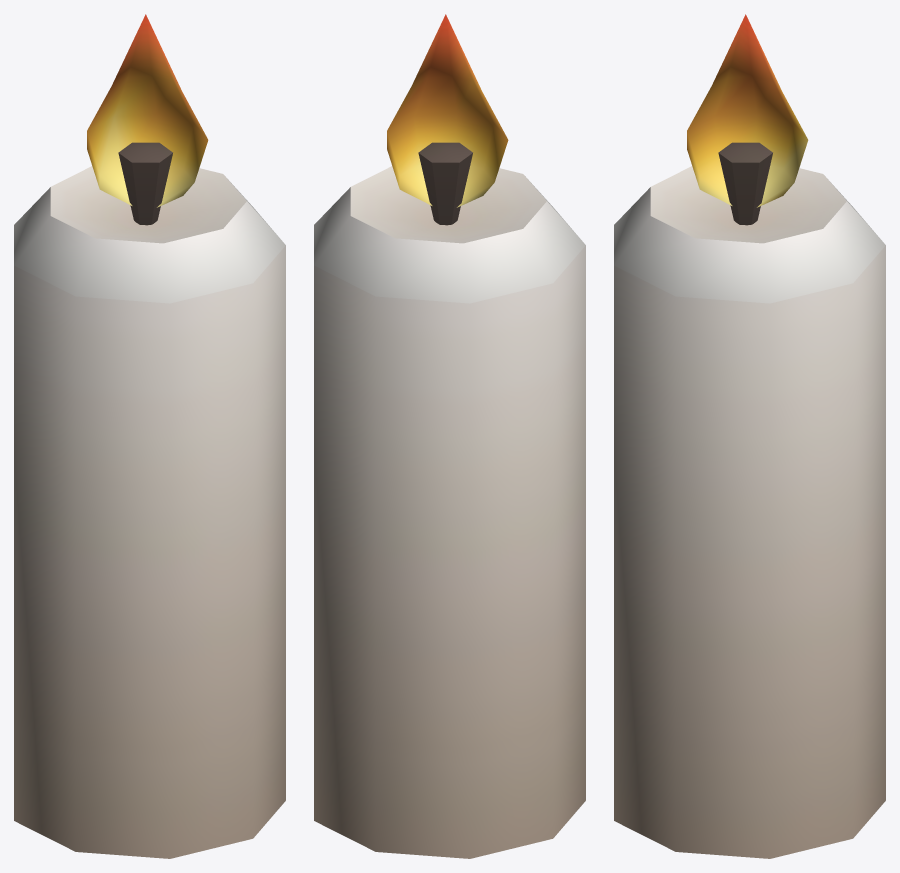
File: d_kaykit_bougie.glb
3 renders of one model, left to right at view 1: azimuth 30°, elevation 25°; view 2: azimuth 150°, elevation 25°; view 3: azimuth 270°, elevation 25°, orthographic.
Visible parts, largest first — view 1: d_kaykit_bougie; view 2: d_kaykit_bougie; view 3: d_kaykit_bougie.
Part boxes in pixels (x1=…): d_kaykit_bougie: x1=14, y1=14, x2=285, y2=858; d_kaykit_bougie: x1=314, y1=14, x2=585, y2=858; d_kaykit_bougie: x1=614, y1=14, x2=885, y2=858.
Bounding box in the file's own units: 0.3344 × 1.05 × 0.3293.
1 material, 1 textured.
